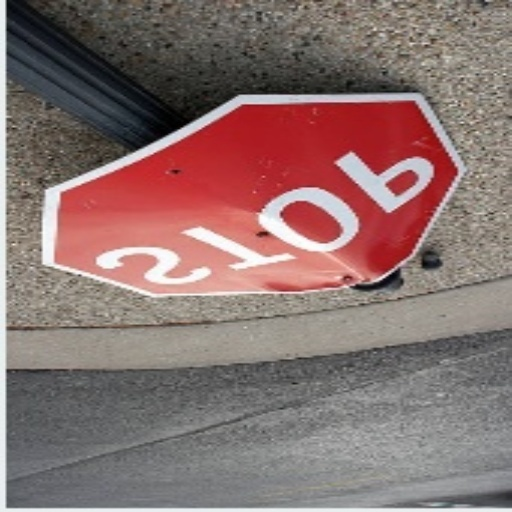Stop: (41, 77, 488, 322)
